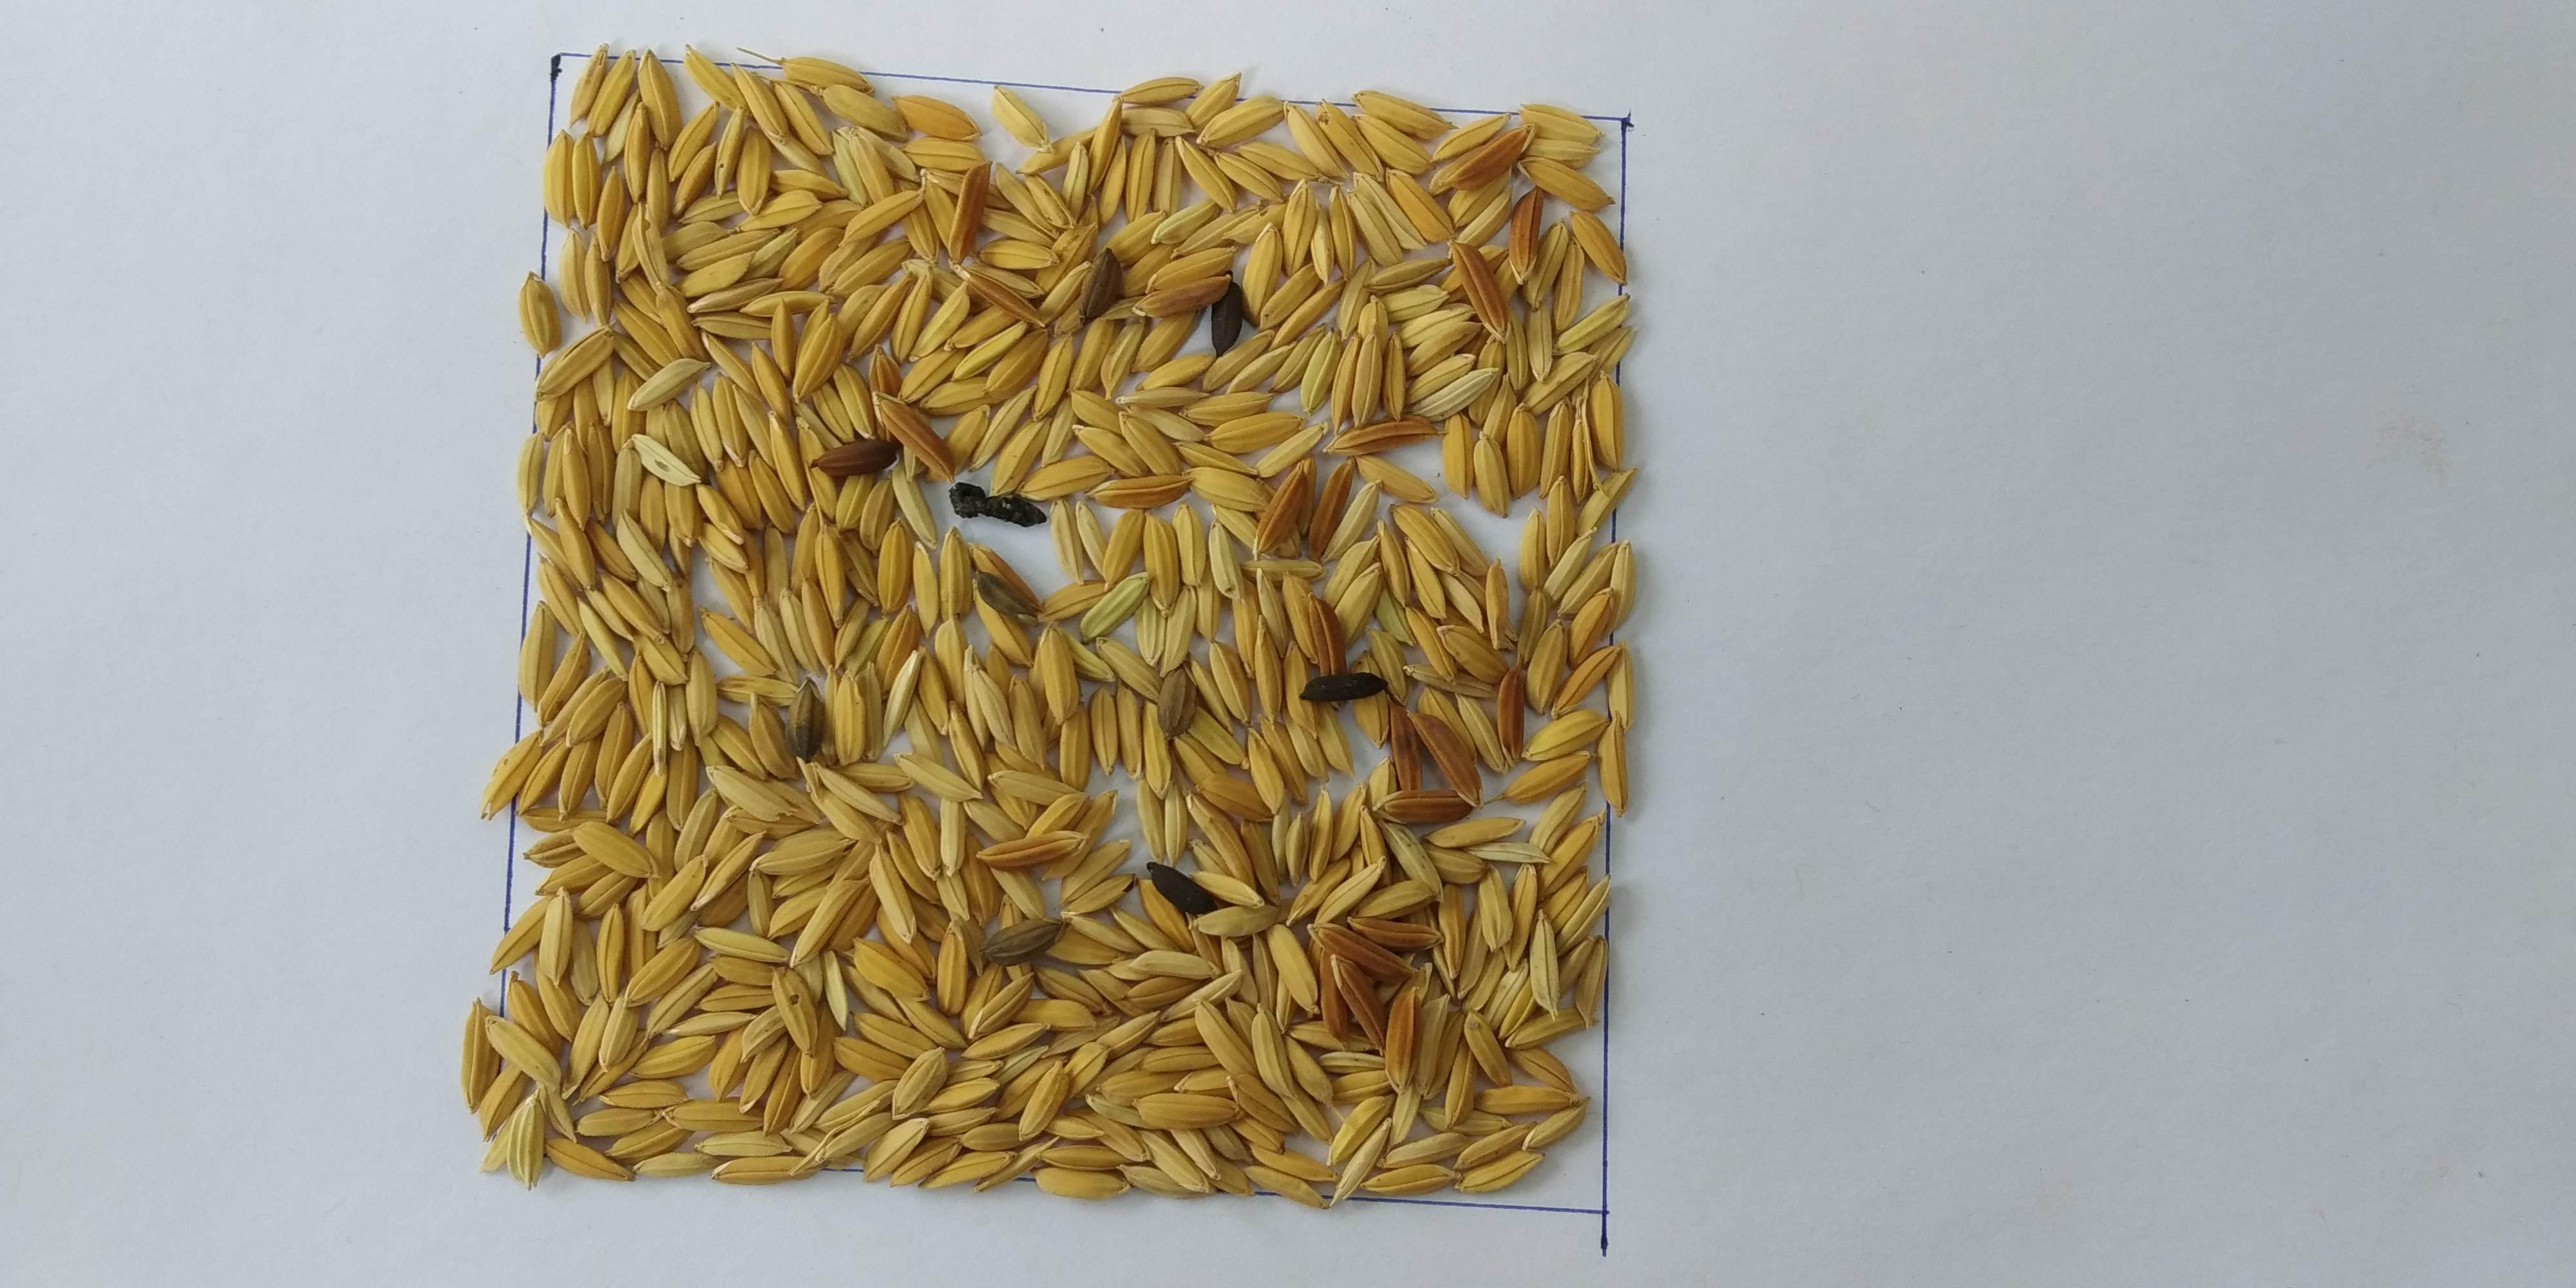Partialimpure: (570, 113, 1562, 1157)
